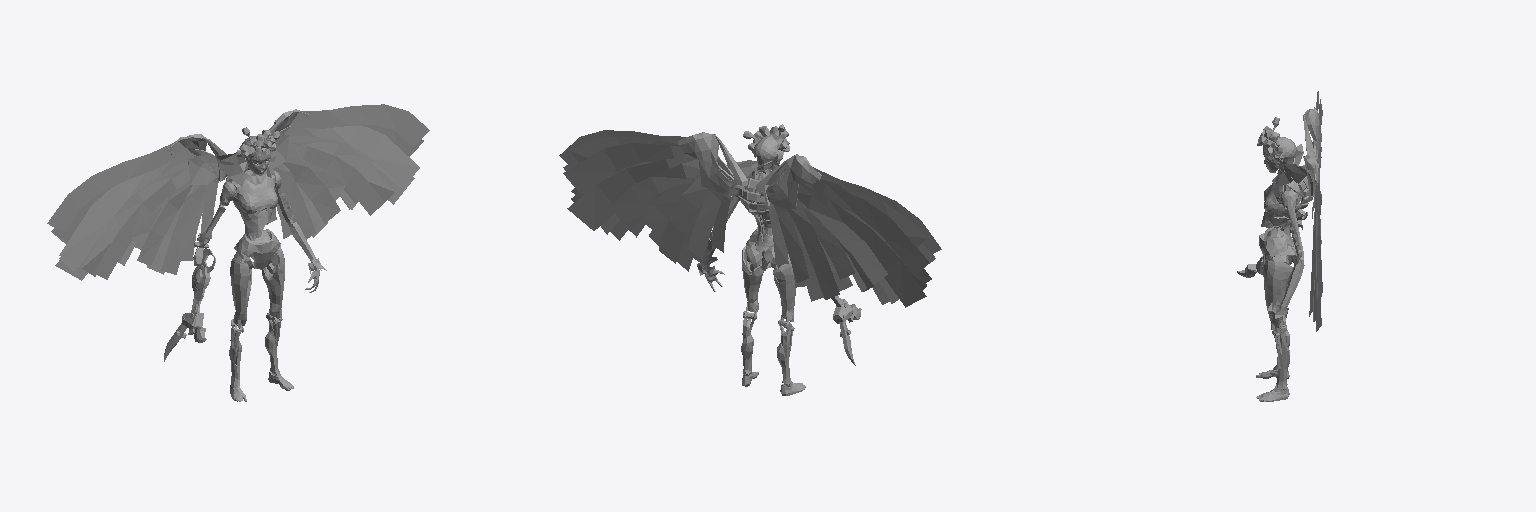
The model's file is harpy.obj.
The picture shows the model from 3 angles: view 1: azimuth 30°, elevation 25°; view 2: azimuth 150°, elevation 25°; view 3: azimuth 270°, elevation 25°; orthographic projection.
Visible parts, largest first — view 1: rdmobj01, rdmobj02, rdmobj00; view 2: rdmobj01, rdmobj02, rdmobj00; view 3: rdmobj02, rdmobj01, rdmobj00.
Part boxes in pixels (x1,y1,x2,y2): rdmobj01: (47, 104, 429, 280); rdmobj02: (164, 116, 319, 401); rdmobj00: (236, 127, 279, 175); rdmobj01: (559, 130, 941, 307); rdmobj02: (703, 134, 861, 395); rdmobj00: (743, 124, 789, 179); rdmobj02: (1237, 115, 1316, 401); rdmobj01: (1267, 91, 1322, 331); rdmobj00: (1257, 117, 1296, 172).
Size of the model in its own units: 10.69 by 7.09 by 2.08.